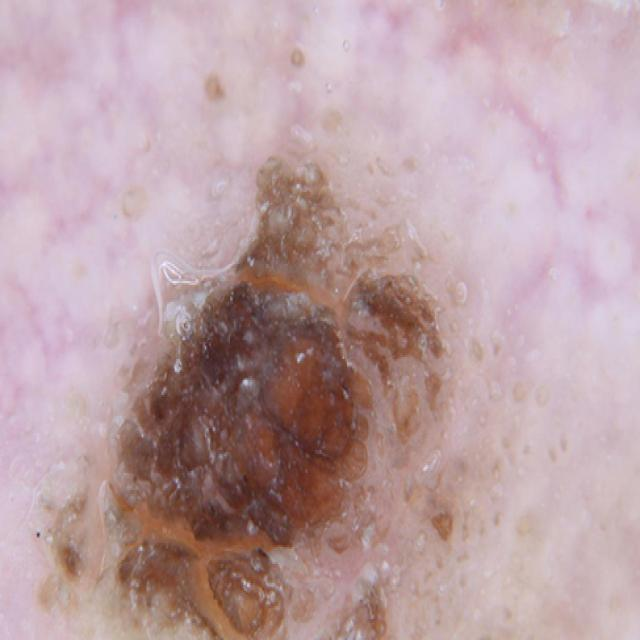Keratosis: (22, 146, 611, 640)
